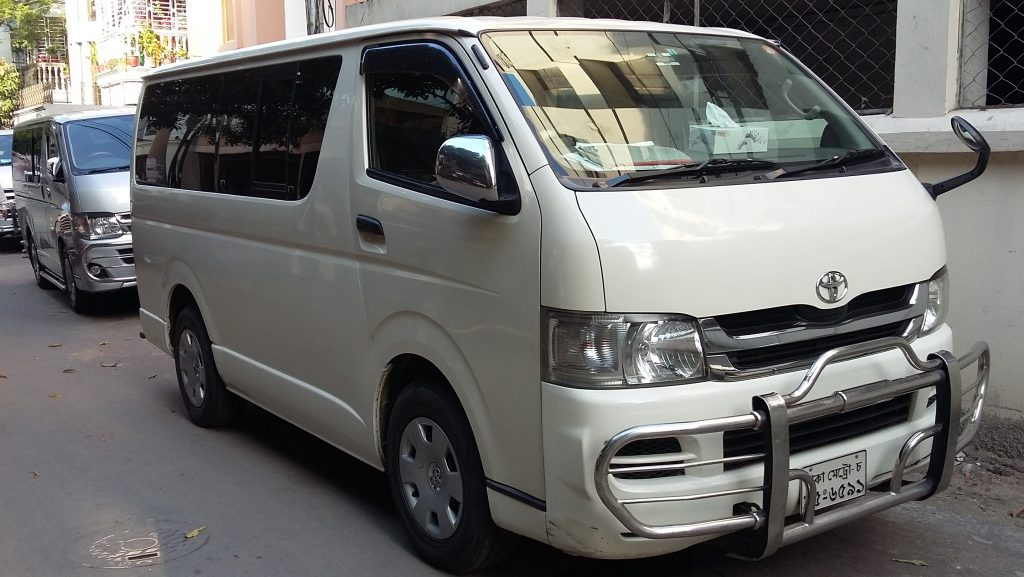registration_plate: (797, 448, 868, 517)
